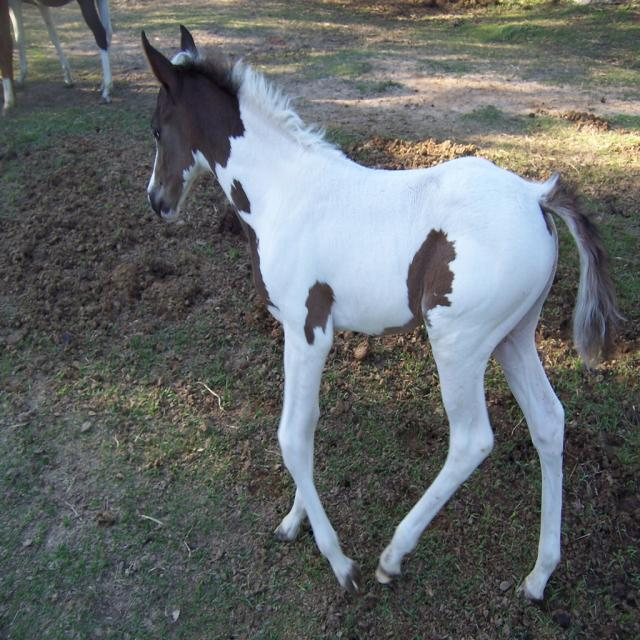Horse: (141, 24, 629, 606), (0, 0, 116, 106)
